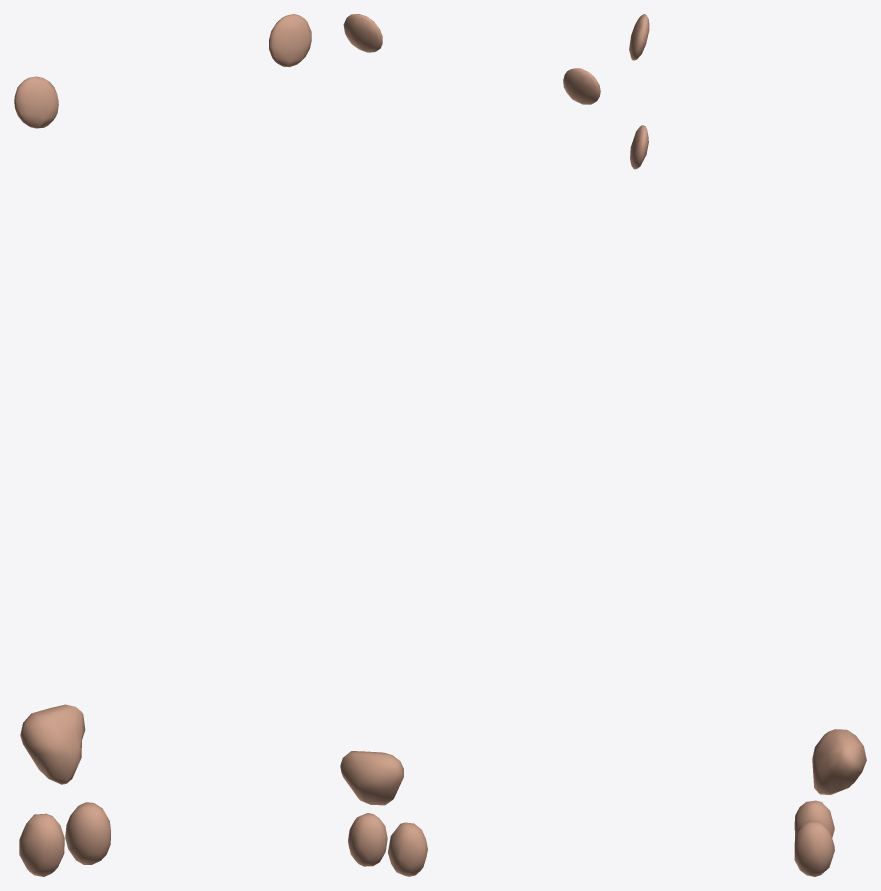
Rendered from pediatric_neonate_male.reproductive.LOD2.glb.
3 views of the same model, side by side, from view 1: azimuth 30°, elevation 25°; view 2: azimuth 150°, elevation 25°; view 3: azimuth 270°, elevation 25° (orthographic). The views are drawn at different scales.
Visible parts, largest first — view 1: PEDIATRIC.NEONATE.MALE.REPRODUCTIVE.PROSTATE, PEDIATRIC.NEONATE.MALE.REPRODUCTIVE.TESTIS.L, PEDIATRIC.NEONATE.MALE.REPRODUCTIVE.TESTIS.R, PEDIATRIC.NEONATE.MALE.REPRODUCTIVE.BREAST_ADIPOSE_TISSUE.R, PEDIATRIC.NEONATE.MALE.REPRODUCTIVE.BREAST_ADIPOSE_TISSUE.L; view 2: PEDIATRIC.NEONATE.MALE.REPRODUCTIVE.PROSTATE, PEDIATRIC.NEONATE.MALE.REPRODUCTIVE.TESTIS.R, PEDIATRIC.NEONATE.MALE.REPRODUCTIVE.TESTIS.L, PEDIATRIC.NEONATE.MALE.REPRODUCTIVE.BREAST_ADIPOSE_TISSUE.L, PEDIATRIC.NEONATE.MALE.REPRODUCTIVE.BREAST_ADIPOSE_TISSUE.R; view 3: PEDIATRIC.NEONATE.MALE.REPRODUCTIVE.PROSTATE, PEDIATRIC.NEONATE.MALE.REPRODUCTIVE.TESTIS.L, PEDIATRIC.NEONATE.MALE.REPRODUCTIVE.TESTIS.R, PEDIATRIC.NEONATE.MALE.REPRODUCTIVE.BREAST_ADIPOSE_TISSUE.R, PEDIATRIC.NEONATE.MALE.REPRODUCTIVE.BREAST_ADIPOSE_TISSUE.L.
Boxes of the visible parts, x1,y1,x2,y2 form: PEDIATRIC.NEONATE.MALE.REPRODUCTIVE.PROSTATE: (20,704,85,784); PEDIATRIC.NEONATE.MALE.REPRODUCTIVE.TESTIS.L: (65,802,110,864); PEDIATRIC.NEONATE.MALE.REPRODUCTIVE.TESTIS.R: (19,813,64,876); PEDIATRIC.NEONATE.MALE.REPRODUCTIVE.BREAST_ADIPOSE_TISSUE.R: (14,76,58,128); PEDIATRIC.NEONATE.MALE.REPRODUCTIVE.BREAST_ADIPOSE_TISSUE.L: (269,14,311,67); PEDIATRIC.NEONATE.MALE.REPRODUCTIVE.PROSTATE: (340,751,403,805); PEDIATRIC.NEONATE.MALE.REPRODUCTIVE.TESTIS.R: (388,822,427,876); PEDIATRIC.NEONATE.MALE.REPRODUCTIVE.TESTIS.L: (348,813,387,866); PEDIATRIC.NEONATE.MALE.REPRODUCTIVE.BREAST_ADIPOSE_TISSUE.L: (343,14,382,52); PEDIATRIC.NEONATE.MALE.REPRODUCTIVE.BREAST_ADIPOSE_TISSUE.R: (563,68,600,104); PEDIATRIC.NEONATE.MALE.REPRODUCTIVE.PROSTATE: (812,729,866,794); PEDIATRIC.NEONATE.MALE.REPRODUCTIVE.TESTIS.L: (794,820,834,876); PEDIATRIC.NEONATE.MALE.REPRODUCTIVE.TESTIS.R: (794,800,834,837); PEDIATRIC.NEONATE.MALE.REPRODUCTIVE.BREAST_ADIPOSE_TISSUE.R: (629,14,649,60); PEDIATRIC.NEONATE.MALE.REPRODUCTIVE.BREAST_ADIPOSE_TISSUE.L: (630,125,648,169).
Bounding box in the file's own units: 0.062 × 0.179 × 0.0485.
